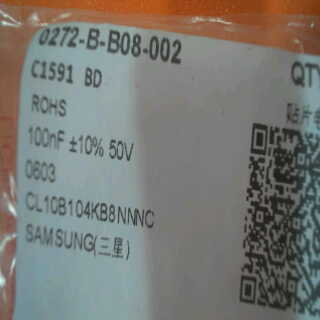100nF: (25, 120, 66, 157)
